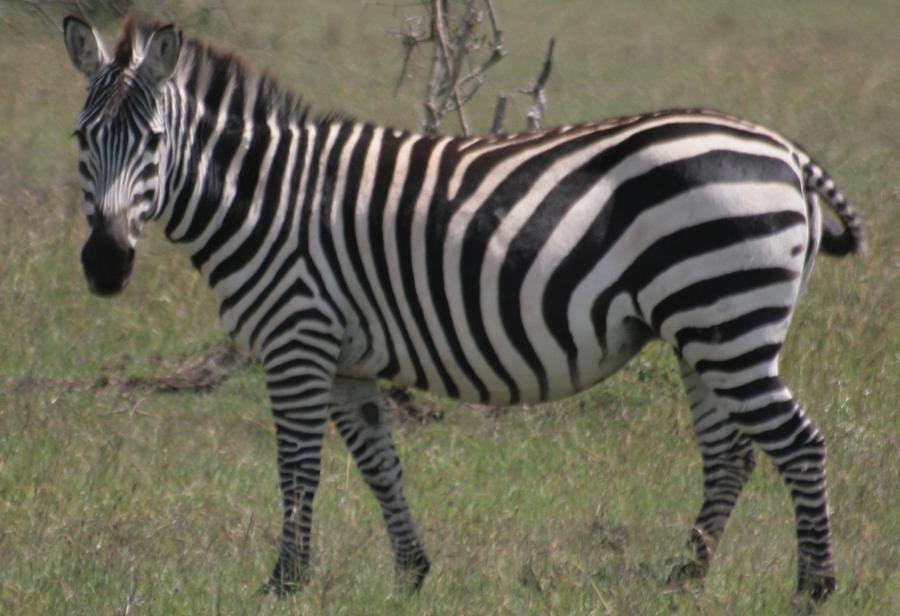zebra_plains: (226, 108, 790, 399)
